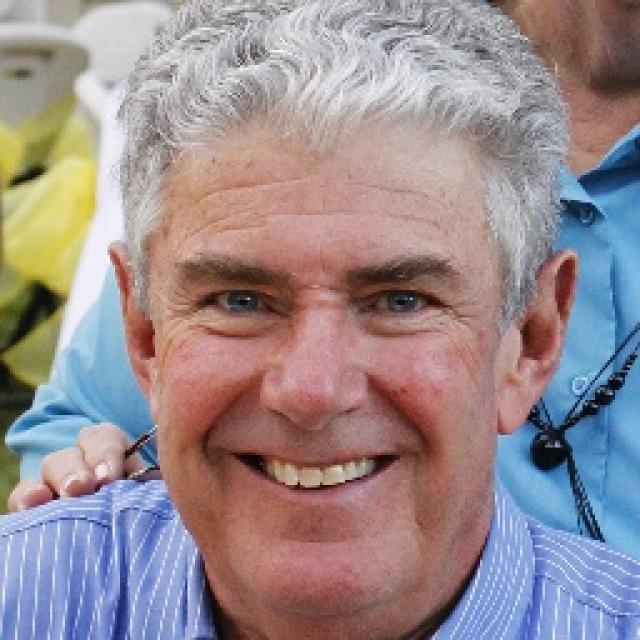earlobe: (498, 393, 533, 434), (140, 381, 162, 414)
eye: (201, 285, 277, 326), (361, 285, 442, 322)
nose: (261, 406, 370, 442)
wholeear: (505, 248, 578, 433), (109, 238, 159, 417)
